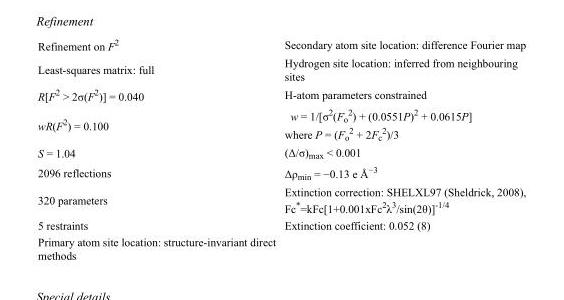table: (37, 36, 525, 261)
table column: (279, 36, 525, 261), (37, 36, 279, 261)
table row: (37, 104, 525, 143), (37, 183, 525, 216), (37, 54, 525, 84), (37, 233, 525, 261), (37, 161, 525, 183), (37, 84, 525, 104), (37, 36, 525, 54), (37, 143, 525, 161), (37, 216, 525, 233)
